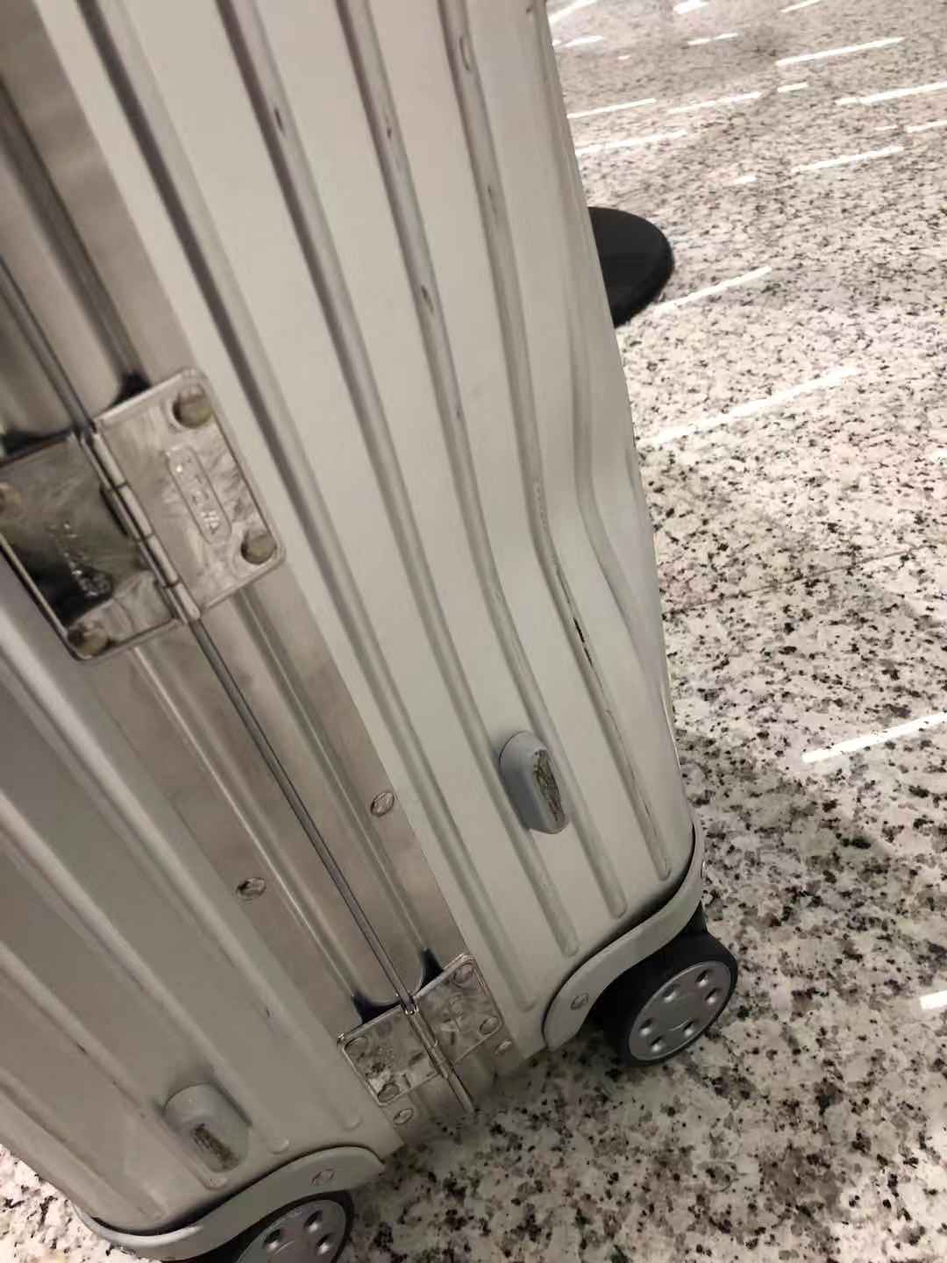hollow: (501, 344, 659, 642)
